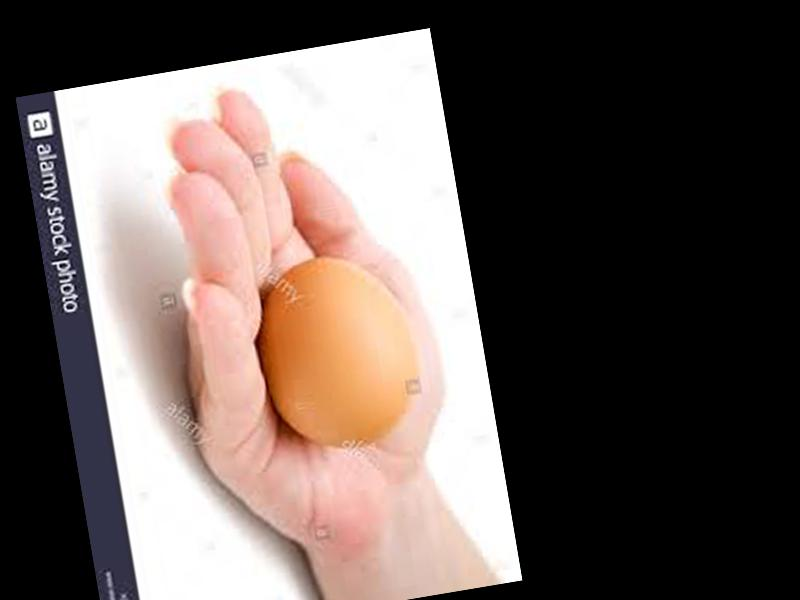Eggs: (248, 245, 433, 461)
